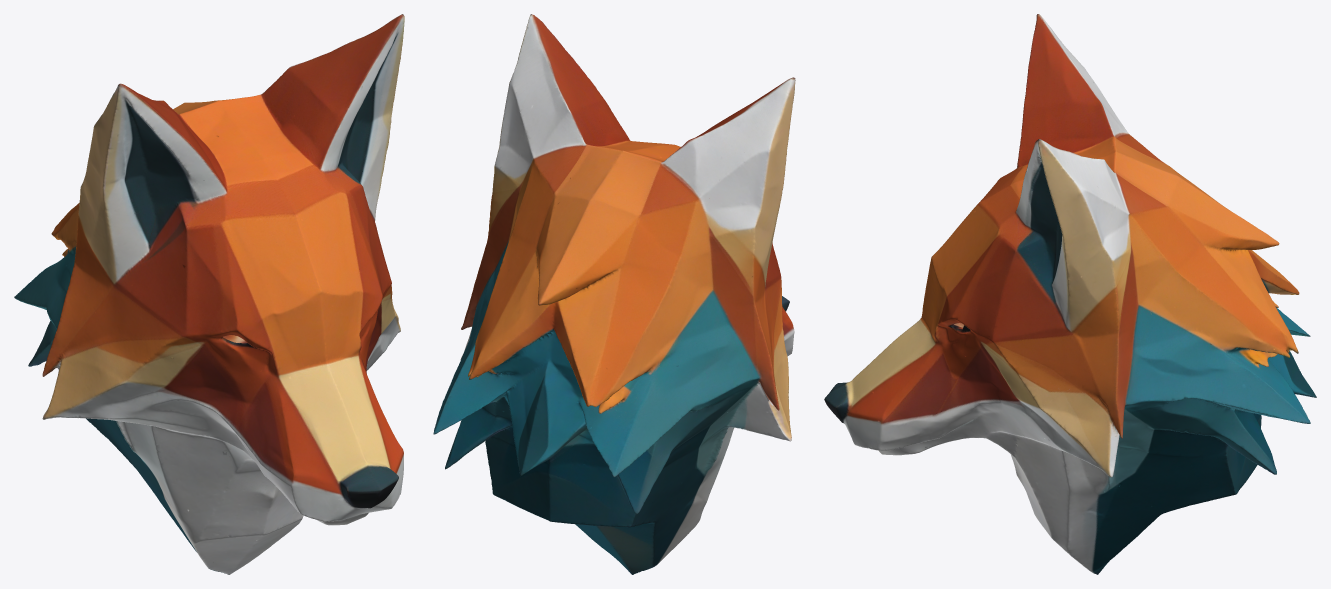
File: fox-head.glb
3 views of the same model, side by side, from view 1: azimuth 30°, elevation 25°; view 2: azimuth 150°, elevation 25°; view 3: azimuth 270°, elevation 25° (orthographic). The views are drawn at different scales.
Bounding box in the file's own units: 1.36 × 2 × 1.79.
Materials: 1 (1 with a texture image).
